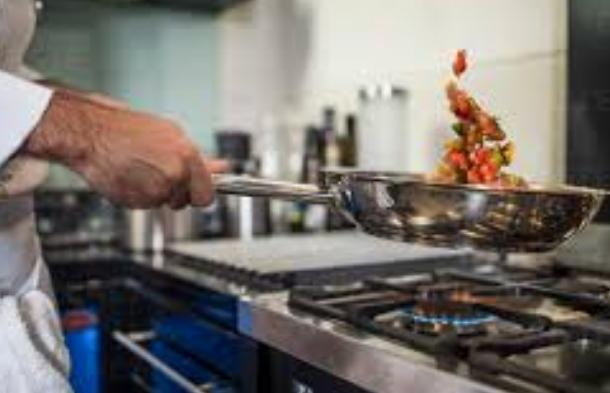controlled_fire: (382, 277, 525, 341)
